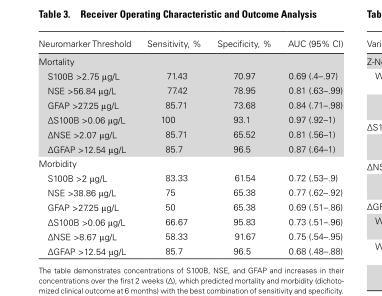table: (37, 37, 342, 256)
table column: (37, 37, 138, 256), (138, 37, 208, 256), (208, 37, 278, 256), (278, 37, 342, 256)
table column header: (37, 37, 342, 51)
table projected row header: (37, 51, 342, 67), (37, 155, 342, 169)
table row: (37, 51, 342, 67), (37, 67, 342, 82), (37, 82, 342, 97), (37, 111, 342, 126), (37, 126, 342, 141), (37, 169, 342, 184), (37, 184, 342, 199), (37, 213, 342, 228), (37, 228, 342, 243), (37, 37, 342, 51), (37, 97, 342, 111), (37, 141, 342, 155), (37, 155, 342, 169), (37, 199, 342, 213), (37, 243, 342, 256)
